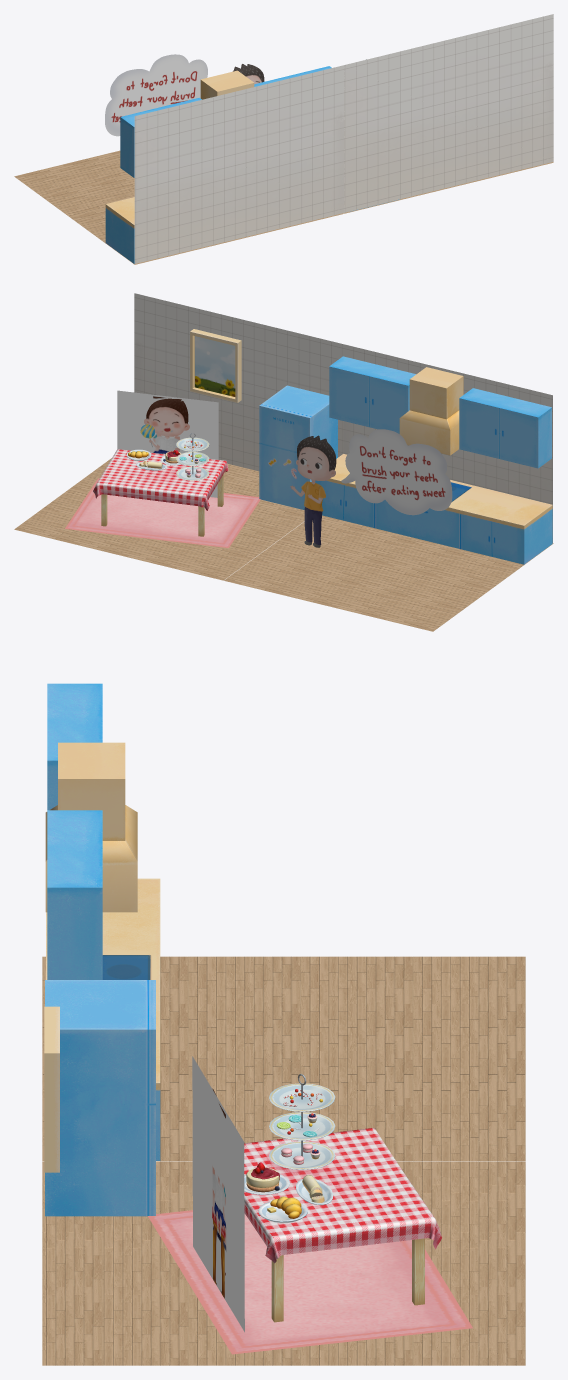
The picture shows the model from 3 angles, top to bottom: view 1: azimuth 30°, elevation 25°; view 2: azimuth 150°, elevation 25°; view 3: azimuth 270°, elevation 25°; orthographic projection. The views are drawn at different scales.
Parts seen in each view (by area): view 1: wall2_mesh, wall_mesh, floor2_meah, bubble_mesh, kitchen_mesh, dad_mesh, floor_meah; view 2: kitchen_mesh, floor2_meah, wall_mesh, floor_meah, carpet_mesh, bubble_mesh, wall2_mesh, table_mesh, body_mesh, dad_mesh, face_mesh, dessertPlate_mesh; view 3: floor2_meah, kitchen_mesh, floor_meah, carpet_mesh, table_mesh, body_mesh, dessertPlate_mesh, bigCake, coissant_mesh.
Part boxes in pixels (x1,y1,x2,y2): wall2_mesh: (134, 65, 344, 263); wall_mesh: (344, 14, 553, 212); floor2_meah: (14, 150, 343, 264); bubble_mesh: (105, 54, 207, 136); kitchen_mesh: (105, 66, 399, 263); dad_mesh: (233, 64, 264, 84); floor_meah: (344, 162, 553, 213); kitchen_mesh: (190, 329, 552, 564); floor2_meah: (224, 515, 553, 631); wall_mesh: (134, 293, 343, 471); floor_meah: (14, 458, 304, 580); carpet_mesh: (65, 478, 260, 547); bubble_mesh: (341, 429, 452, 515); wall2_mesh: (343, 344, 552, 542); table_mesh: (93, 449, 228, 536); body_mesh: (117, 390, 218, 497); dad_mesh: (290, 435, 336, 547); face_mesh: (144, 398, 189, 436); dessertPlate_mesh: (176, 433, 209, 480); floor2_meah: (42, 956, 525, 1160); kitchen_mesh: (44, 683, 160, 1216); floor_meah: (42, 1161, 525, 1365); carpet_mesh: (148, 1210, 472, 1354); table_mesh: (244, 1128, 441, 1322); body_mesh: (192, 1056, 244, 1332); dessertPlate_mesh: (269, 1074, 335, 1169); bigCake: (244, 1162, 289, 1194); coissant_mesh: (258, 1196, 307, 1223).
Bounding box in the file's own units: 2 × 0.6832 × 1.
